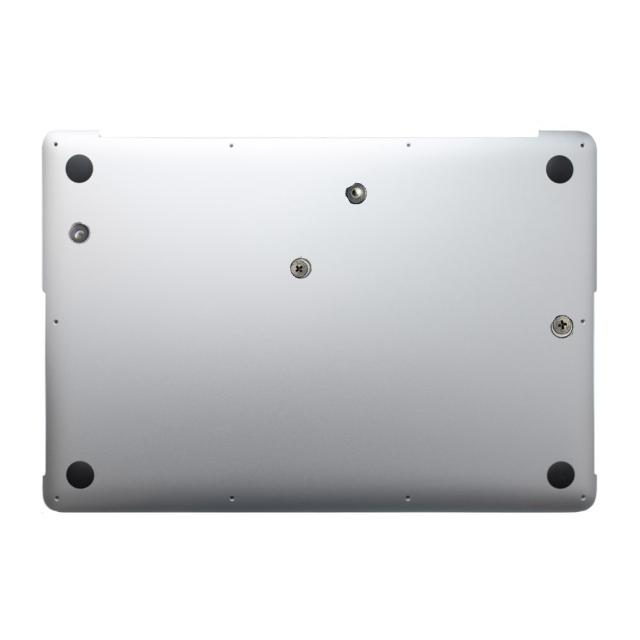lock: (550, 315, 574, 339), (290, 257, 312, 278)
missing_screw: (345, 182, 367, 204), (68, 221, 90, 243)
